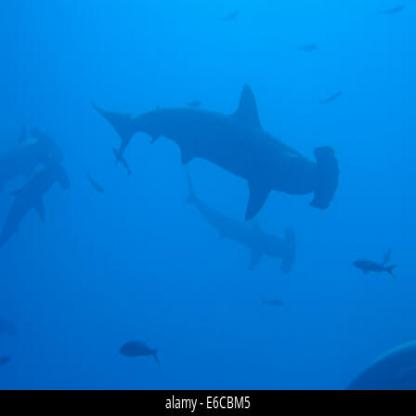hammerhead_Shark: (89, 62, 348, 220)
